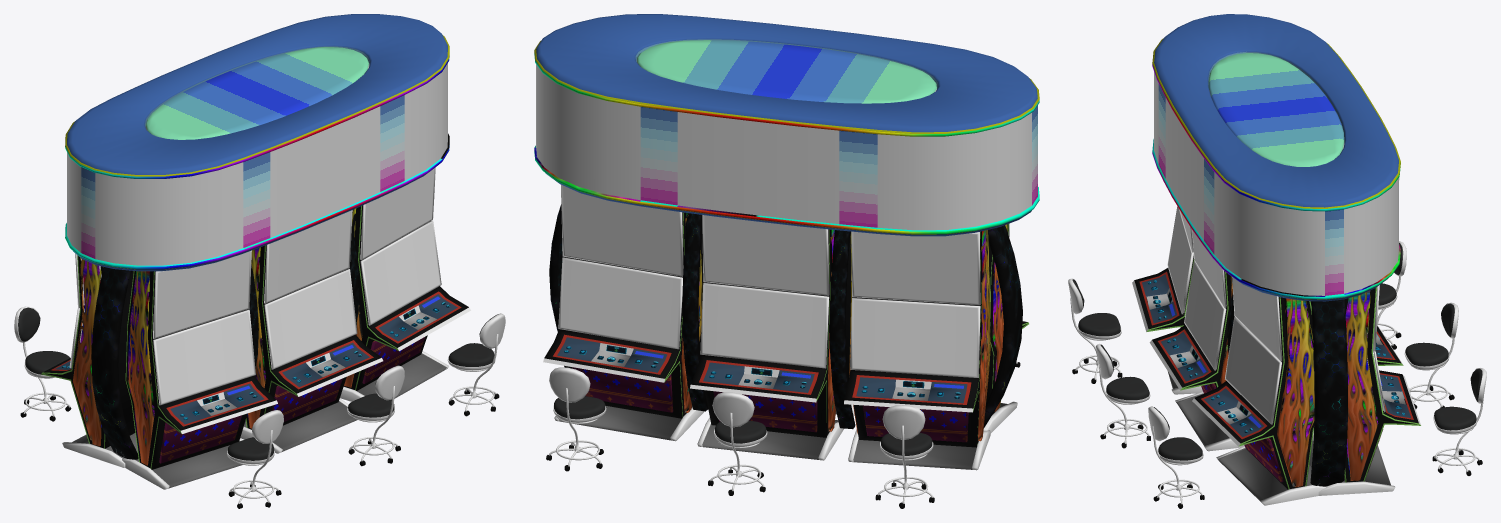
The model's file is SlotAutomatIslandLong.fbx.
The picture shows the model from 3 angles, left to right: view 1: azimuth 30°, elevation 25°; view 2: azimuth 150°, elevation 25°; view 3: azimuth 270°, elevation 25°; orthographic projection. The views are drawn at different scales.
Parts seen in each view (by area): view 1: EffectObjectFade.001, SlotMashine.017, SlotMashine.018, SlotMashine.019, WinDiscription.001, SlotMashine.042, UVScrollObjectIsland.004, GameChair.031, GameChair.030, GameChair.029, GameChair.050, UVScrollObjectAutomat.006; view 2: EffectObjectFade.001, SlotMashine.042, SlotMashine.041, SlotMashine.040, WinDiscription.001, UVScrollObjectIsland.004, GameChair.050, GameChair.051, GameChair.052, SlotMashine.017, SlotMashine.018; view 3: EffectObjectFade.001, SlotMashine.019, WinDiscription.001, SlotMashine.040, SlotMashine.018, SlotMashine.017, UVScrollObjectIsland.004, GameChair.029, GameChair.030, GameChair.052, GameChair.051, GameChair.031 (+4 smaller).
Boxes of the visible parts, left/top/right/bottom form: EffectObjectFade.001: left=67, top=14, right=447, bottom=459; SlotMashine.017: left=122, top=250, right=277, bottom=489; SlotMashine.018: left=240, top=210, right=383, bottom=453; SlotMashine.019: left=340, top=167, right=470, bottom=401; WinDiscription.001: left=145, top=47, right=369, bottom=139; SlotMashine.042: left=41, top=253, right=137, bottom=467; UVScrollObjectIsland.004: left=65, top=35, right=449, bottom=269; GameChair.031: left=227, top=410, right=283, bottom=508; GameChair.030: left=347, top=365, right=404, bottom=466; GameChair.029: left=447, top=313, right=505, bottom=416; GameChair.050: left=14, top=306, right=71, bottom=421; UVScrollObjectAutomat.006: left=127, top=271, right=234, bottom=461; EffectObjectFade.001: left=536, top=14, right=1037, bottom=429; SlotMashine.042: left=844, top=230, right=990, bottom=470; SlotMashine.041: left=690, top=215, right=843, bottom=460; SlotMashine.040: left=543, top=184, right=704, bottom=441; WinDiscription.001: left=637, top=40, right=936, bottom=103; UVScrollObjectIsland.004: left=534, top=41, right=1039, bottom=234; GameChair.050: left=875, top=405, right=934, bottom=508; GameChair.051: left=708, top=392, right=767, bottom=495; GameChair.052: left=546, top=367, right=606, bottom=471; SlotMashine.017: left=983, top=223, right=1028, bottom=433; SlotMashine.018: left=835, top=231, right=854, bottom=415; EffectObjectFade.001: left=1154, top=14, right=1399, bottom=486; SlotMashine.019: left=1192, top=277, right=1325, bottom=505; WinDiscription.001: left=1208, top=53, right=1344, bottom=166; SlotMashine.040: left=1309, top=285, right=1420, bottom=495; SlotMashine.018: left=1149, top=230, right=1244, bottom=451; SlotMashine.017: left=1132, top=206, right=1202, bottom=394; UVScrollObjectIsland.004: left=1152, top=38, right=1400, bottom=299; GameChair.029: left=1148, top=406, right=1204, bottom=508; GameChair.030: left=1096, top=343, right=1150, bottom=448; GameChair.052: left=1432, top=368, right=1486, bottom=475; GameChair.051: left=1404, top=302, right=1458, bottom=408; GameChair.031: left=1068, top=278, right=1122, bottom=383.
Size of the model in its own units: 514 by 384 by 471.
Materials: 14 (8 with a texture image).
